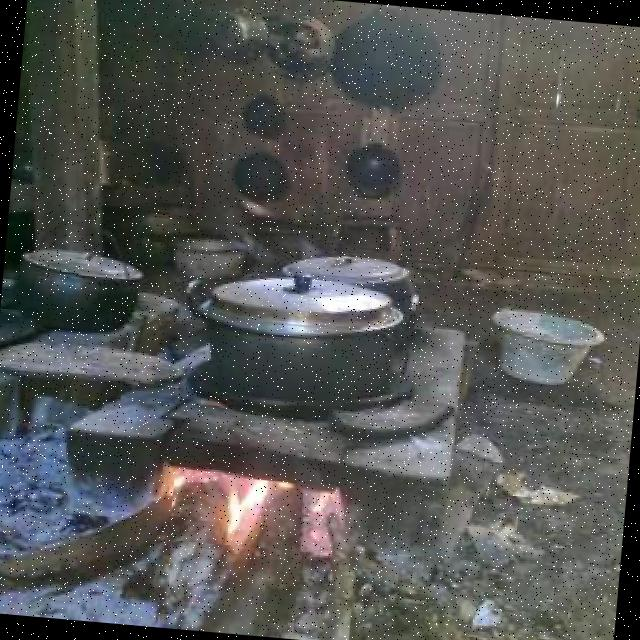fire: (168, 472, 340, 554)
